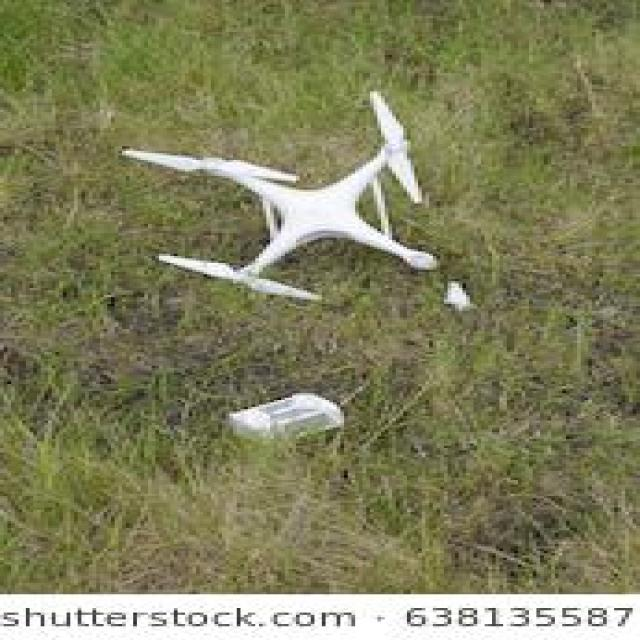drone: (0, 88, 640, 330)
